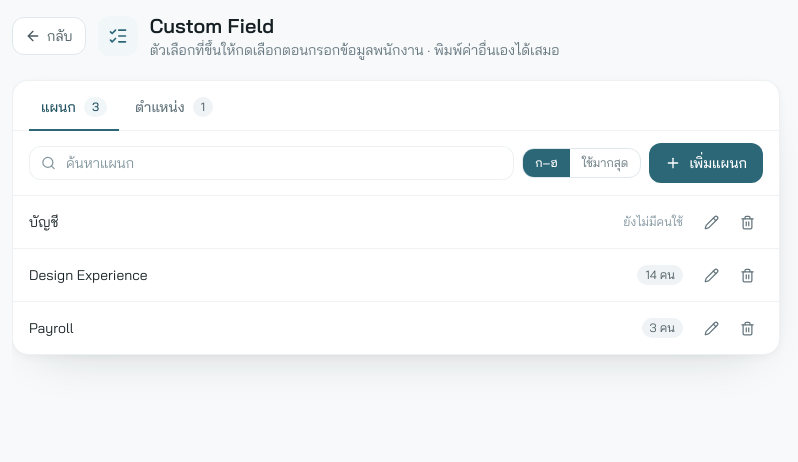
Scenario: FieldOptionsPage › refuses a value the list already has, whatever its case
The image size is (798, 462).
Expected: the text "Payroll" is shown, [29, 319, 74, 337]
Click the button "เพิ่มแผนก" at (706, 163), box [649, 143, 763, 183]
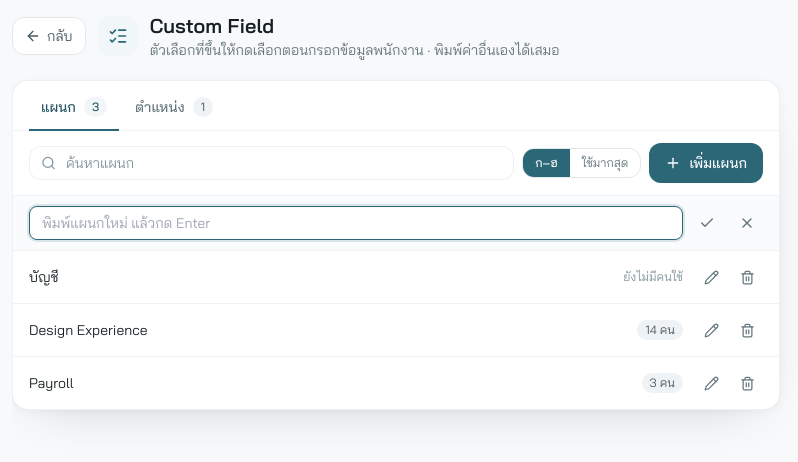
Type "payroll" into the field labelled "แผนกใหม่" at (356, 223), box [29, 206, 683, 240]
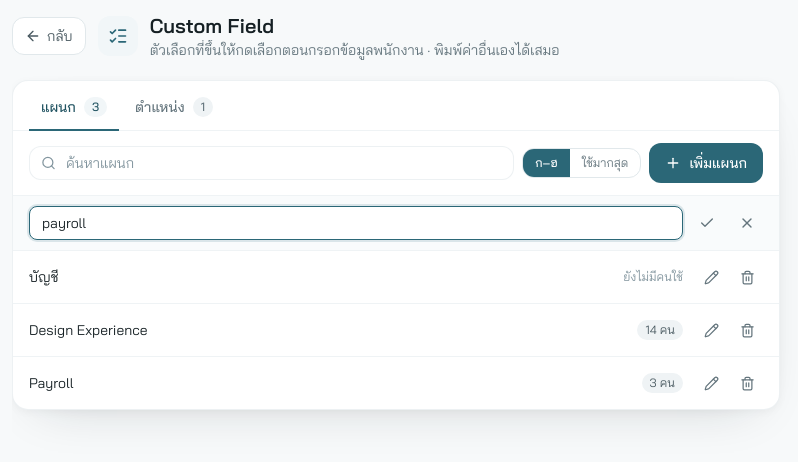
Press Enter in the field named "แผนกใหม่", box [29, 206, 683, 240]
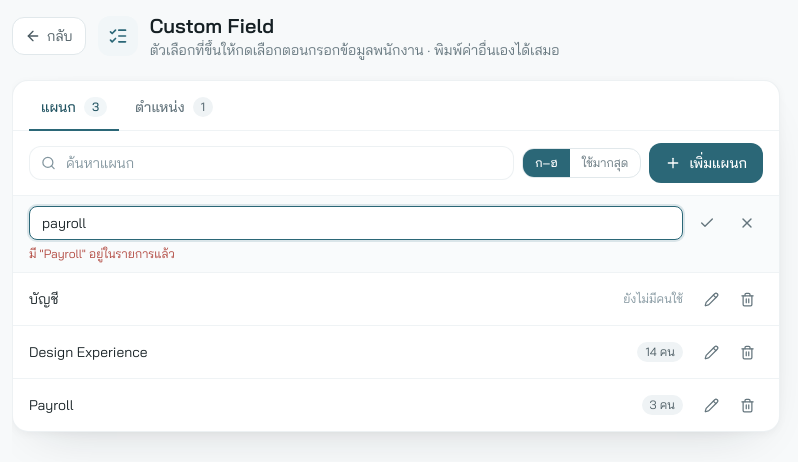
Expected: the text "มี \"Payroll\" อยู่ในรายการแล้ว" is shown, [29, 246, 175, 261]
